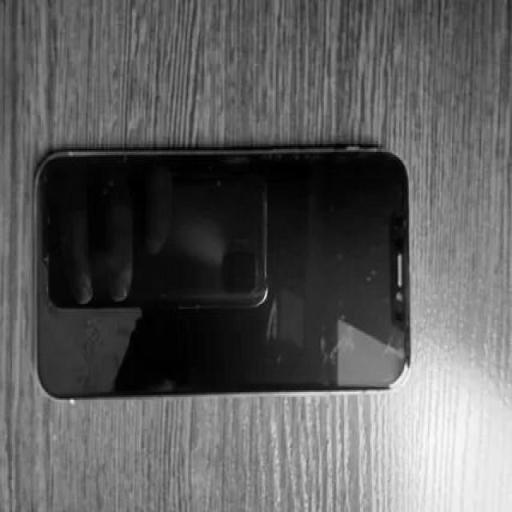phone: (13, 148, 410, 408)
